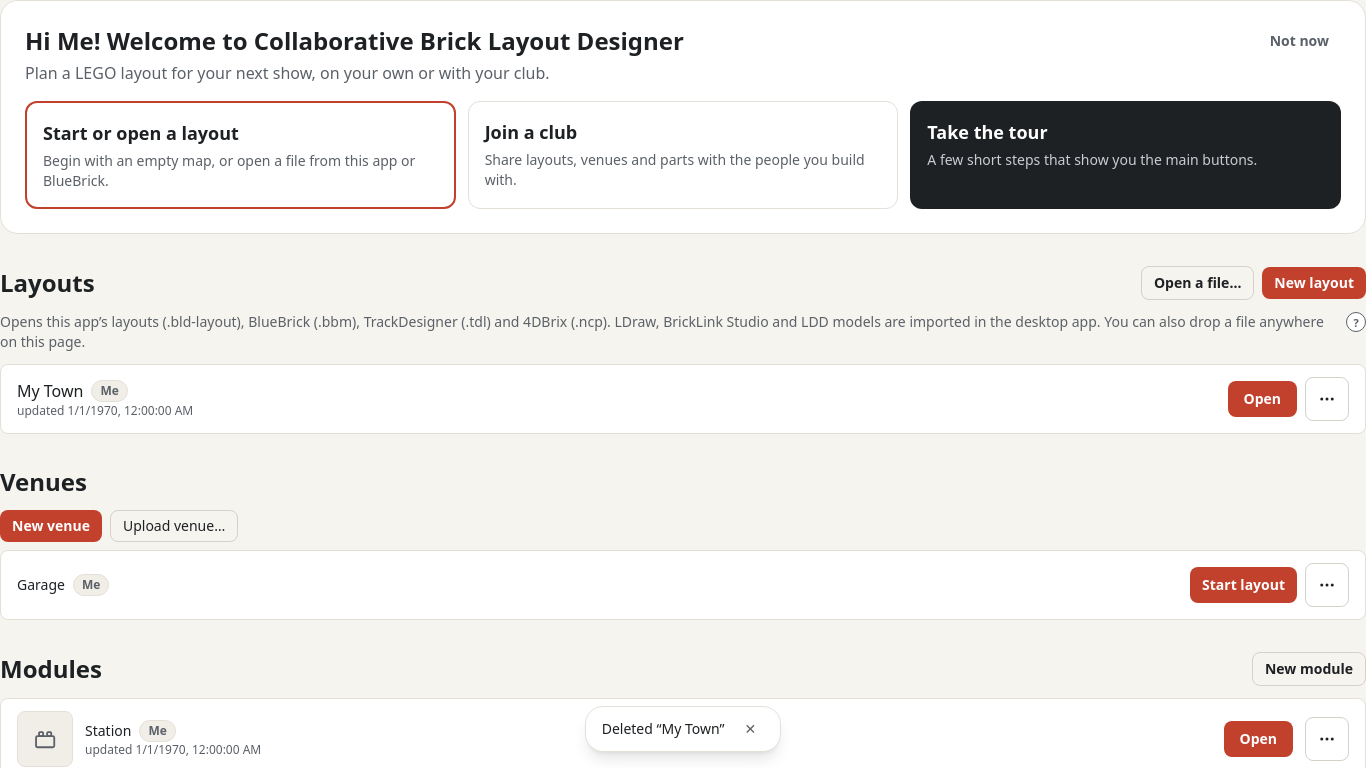
Test: deleting through the dialog › a module
Click the button named "More for Station". click: (1327, 739)
box: [1305,717,1349,761]
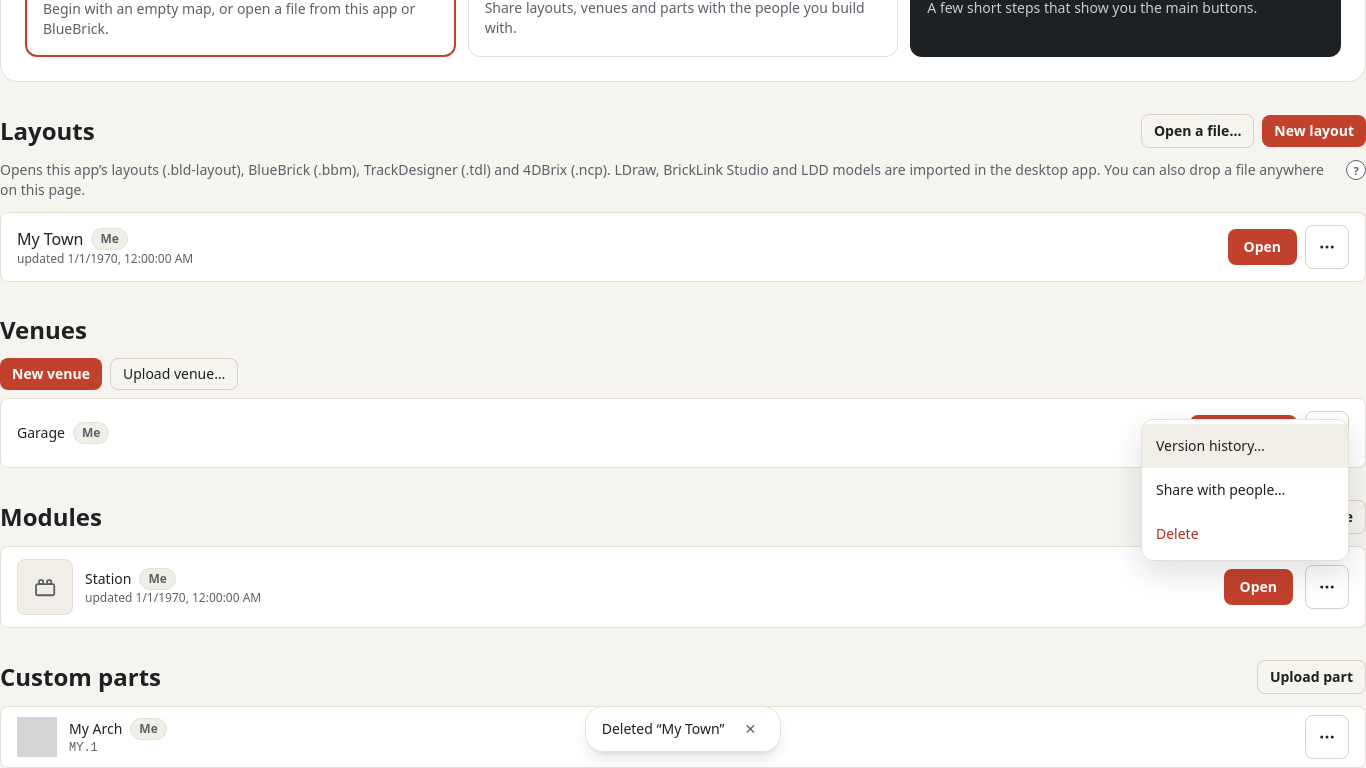
Click the menu item "Delete". click: (1245, 534)
box: [1142,512,1348,556]
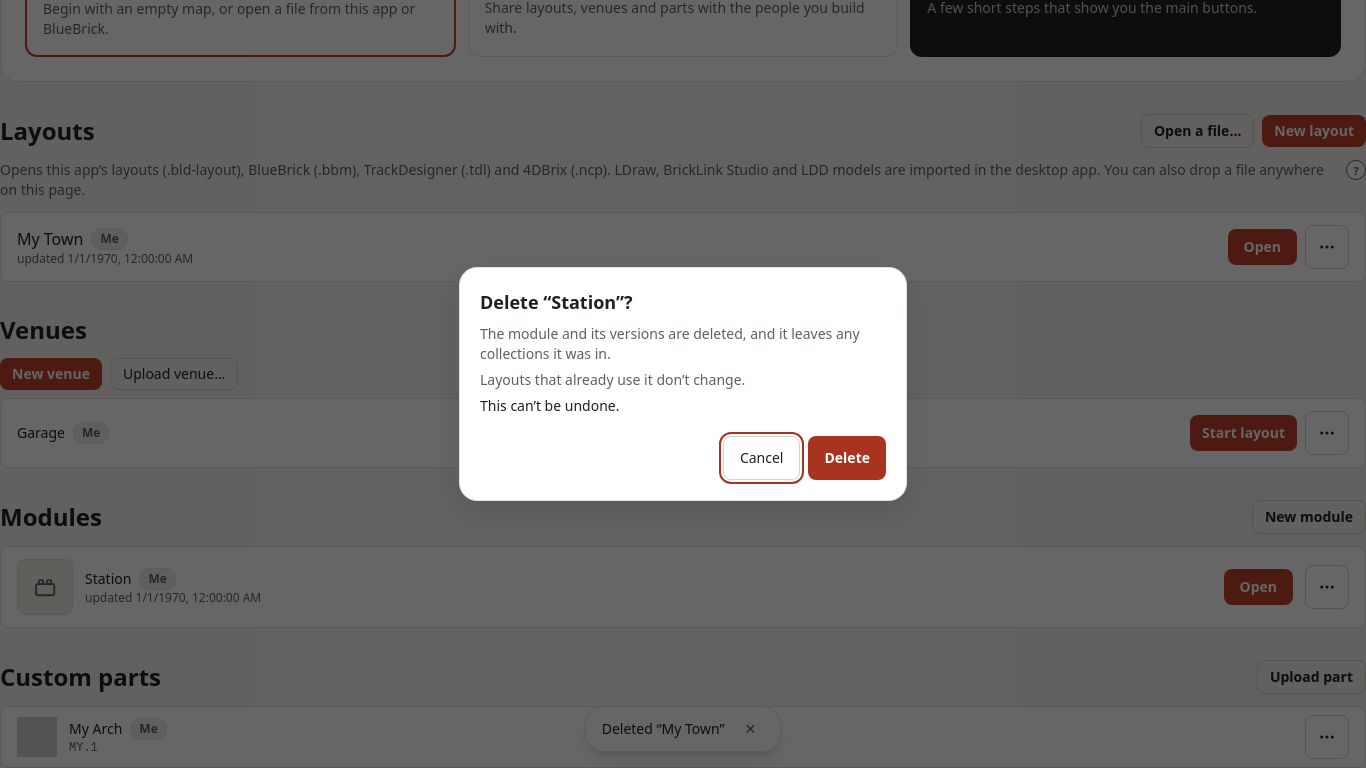
Click the button "Cancel". click: (762, 458)
box: [723,436,800,480]
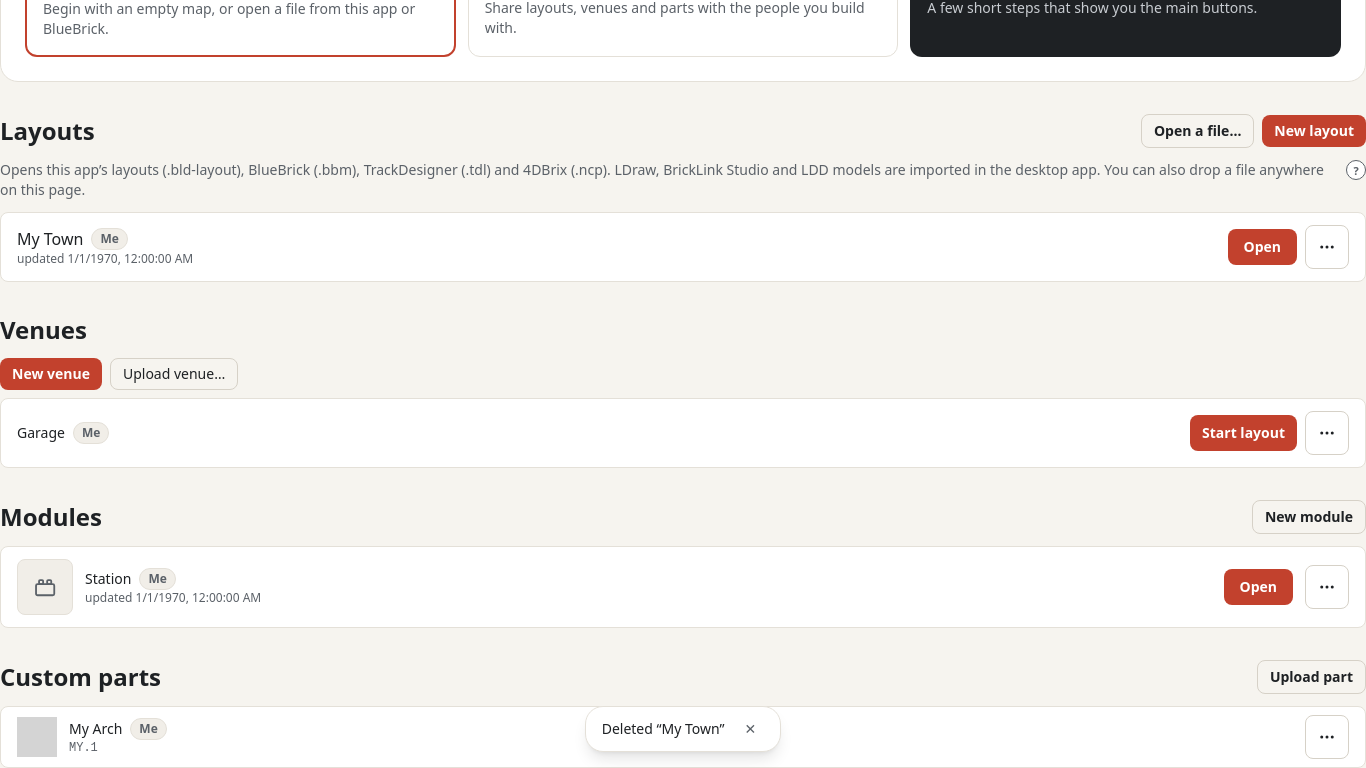
Click the button named "More for Station". click: (1327, 587)
box: [1305,565,1349,609]
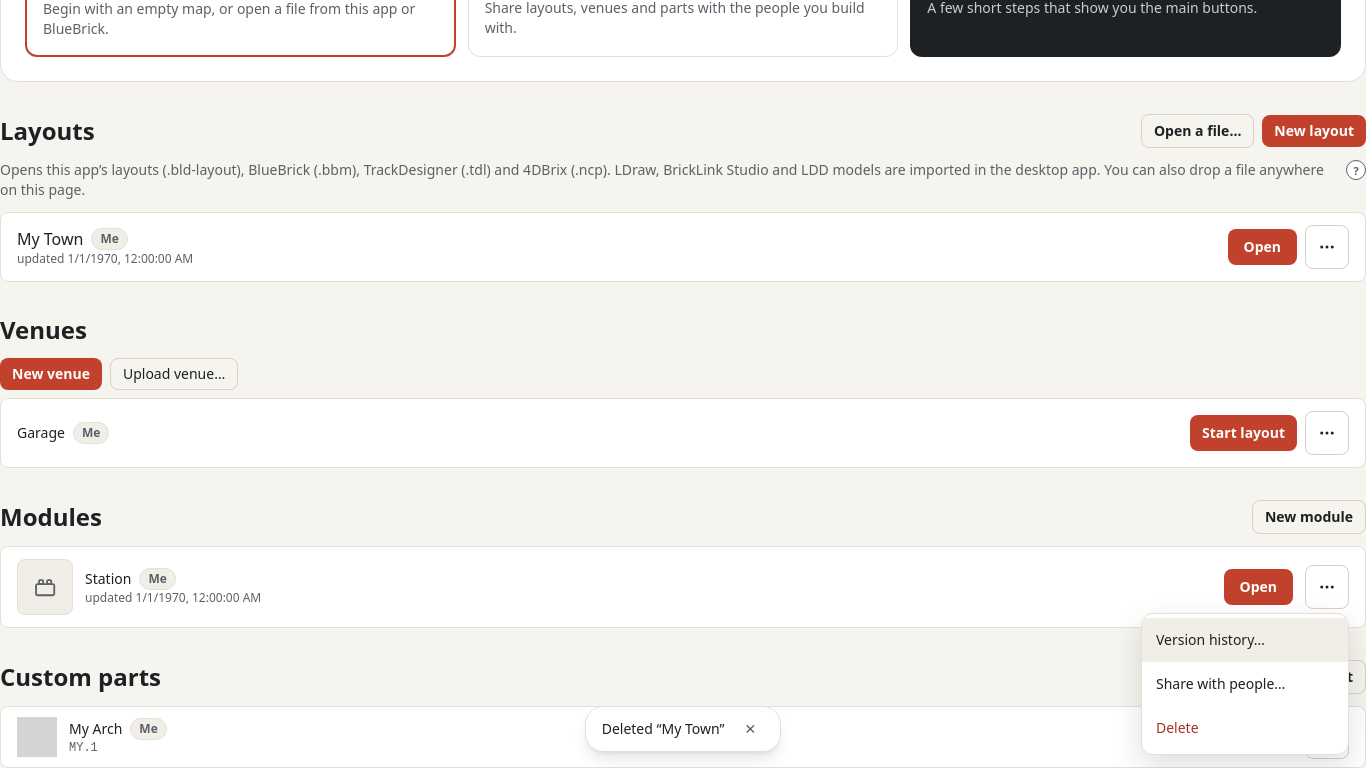
Click the menu item "Delete". click: (1245, 728)
box: [1142,706,1348,750]
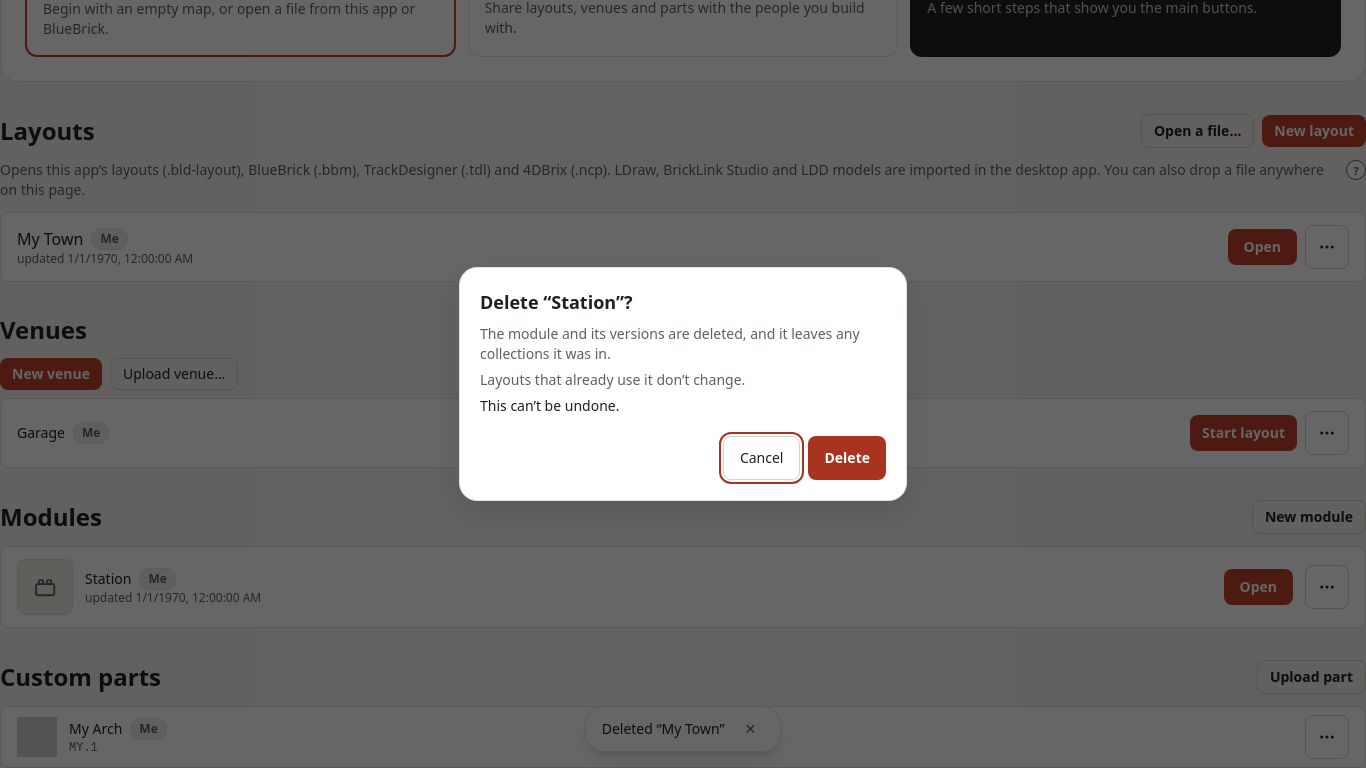
Click the button "Delete". click: (847, 458)
box: [808,436,886,480]
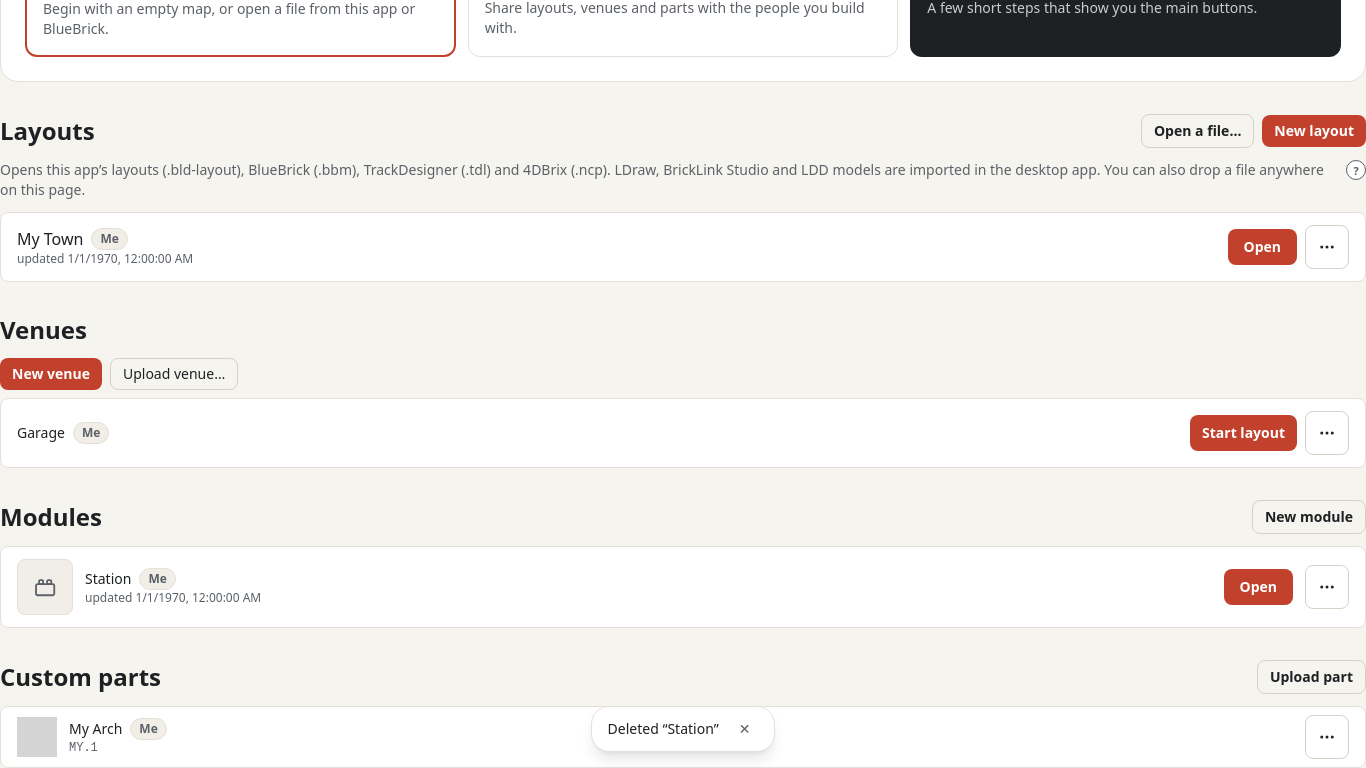
Check: the dialog with test id "confirm-dialog" is gone
